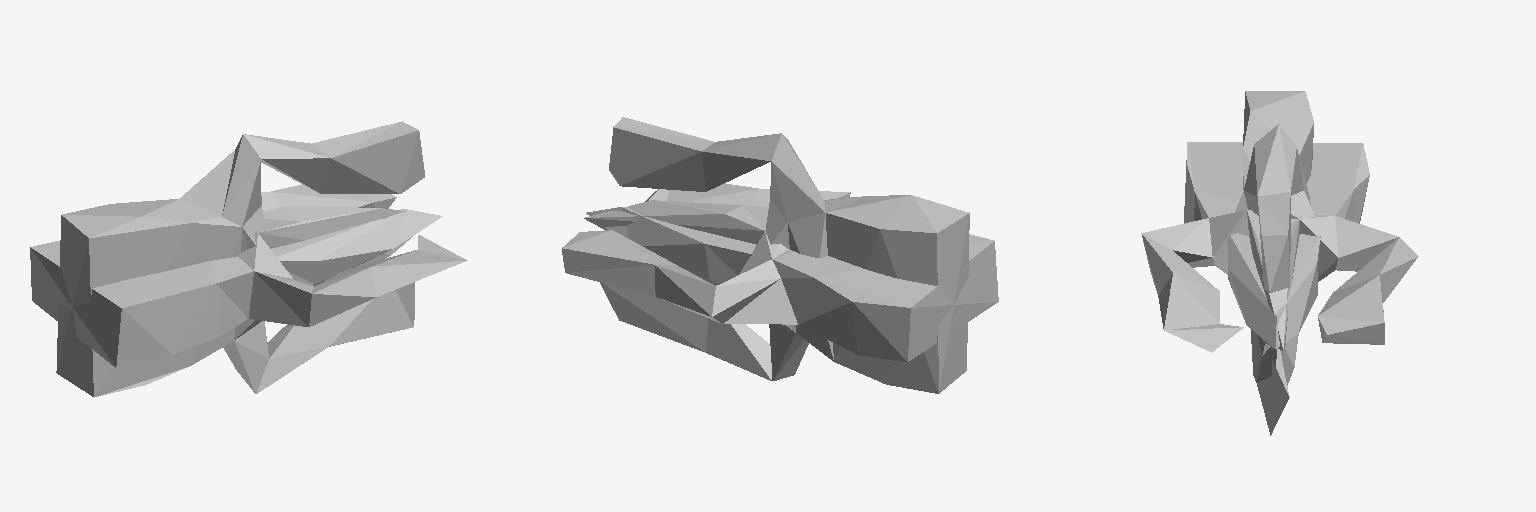
The picture shows the model from 3 angles: view 1: azimuth 30°, elevation 25°; view 2: azimuth 150°, elevation 25°; view 3: azimuth 270°, elevation 25°; orthographic projection.
Parts seen in each view (by area): view 1: unknown; view 2: unknown; view 3: unknown.
Part boxes in pixels (bbox=[...]): unknown: bbox=[30, 121, 467, 397]; unknown: bbox=[562, 117, 998, 393]; unknown: bbox=[1141, 91, 1418, 435].
Bounding box in the file's own units: 0.4724 × 0.3062 × 0.3062.